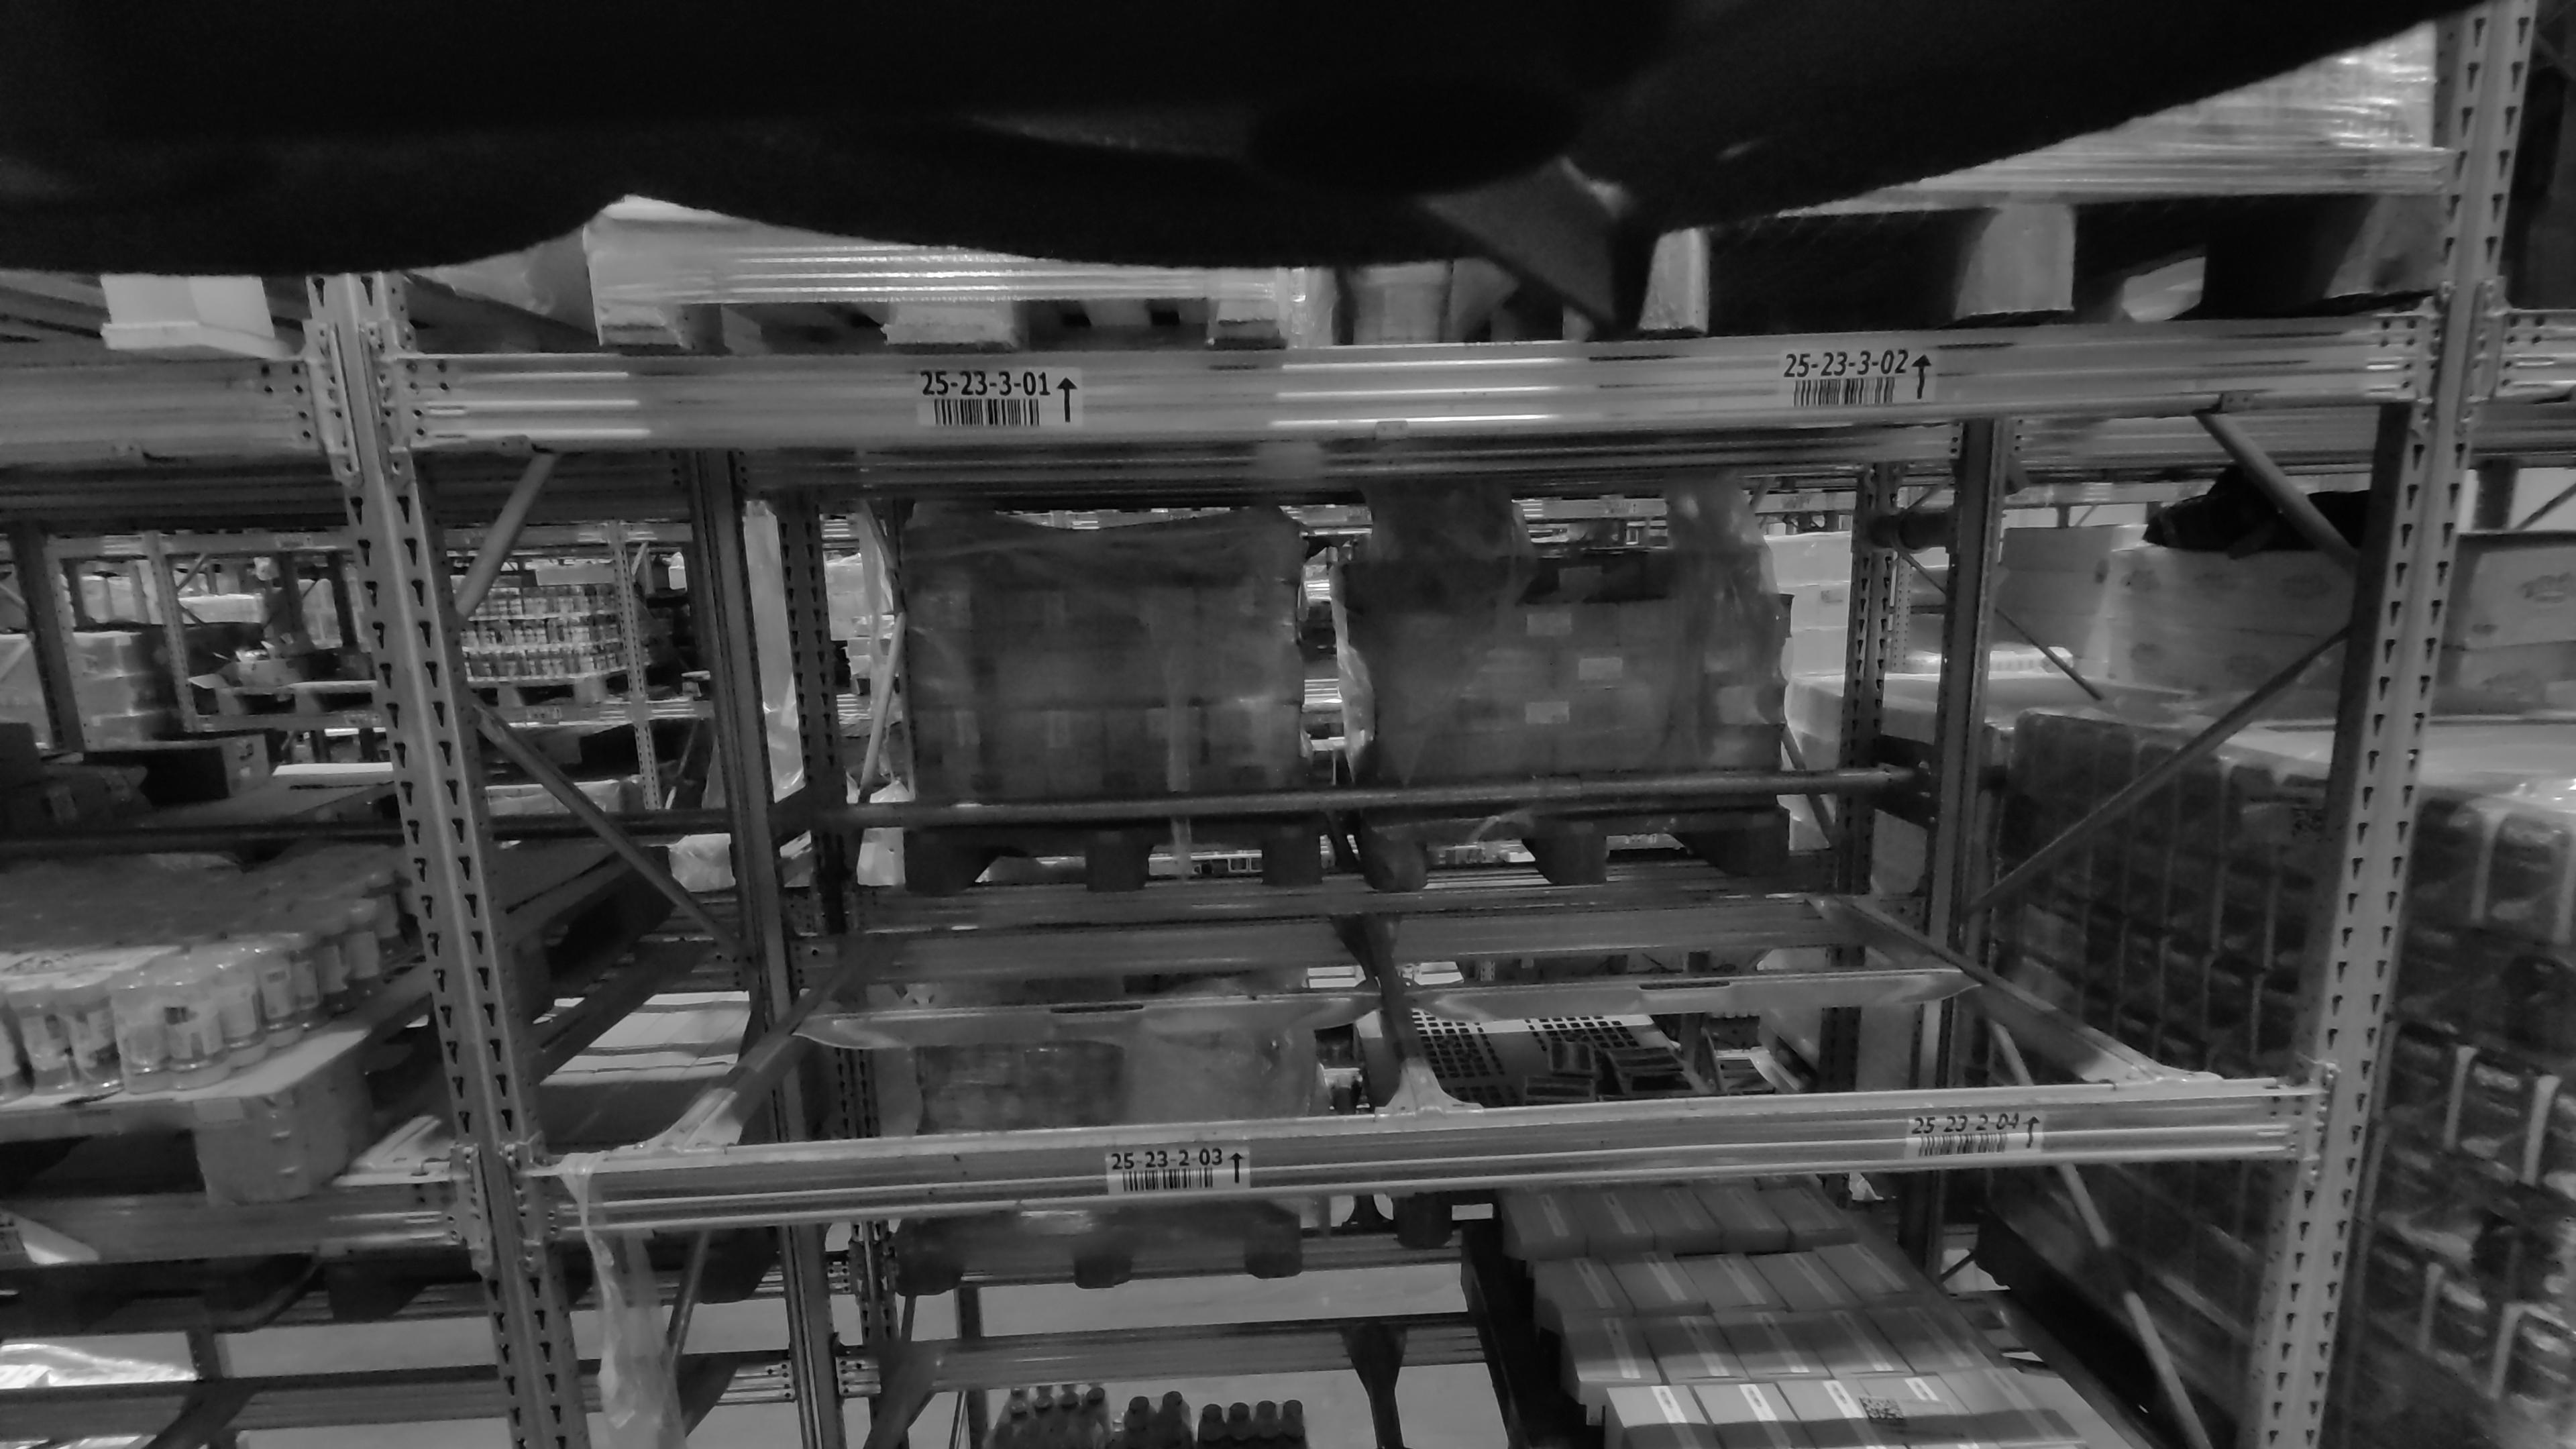empty-shelf: (626, 456, 1357, 1116), (1391, 455, 2151, 1077)
